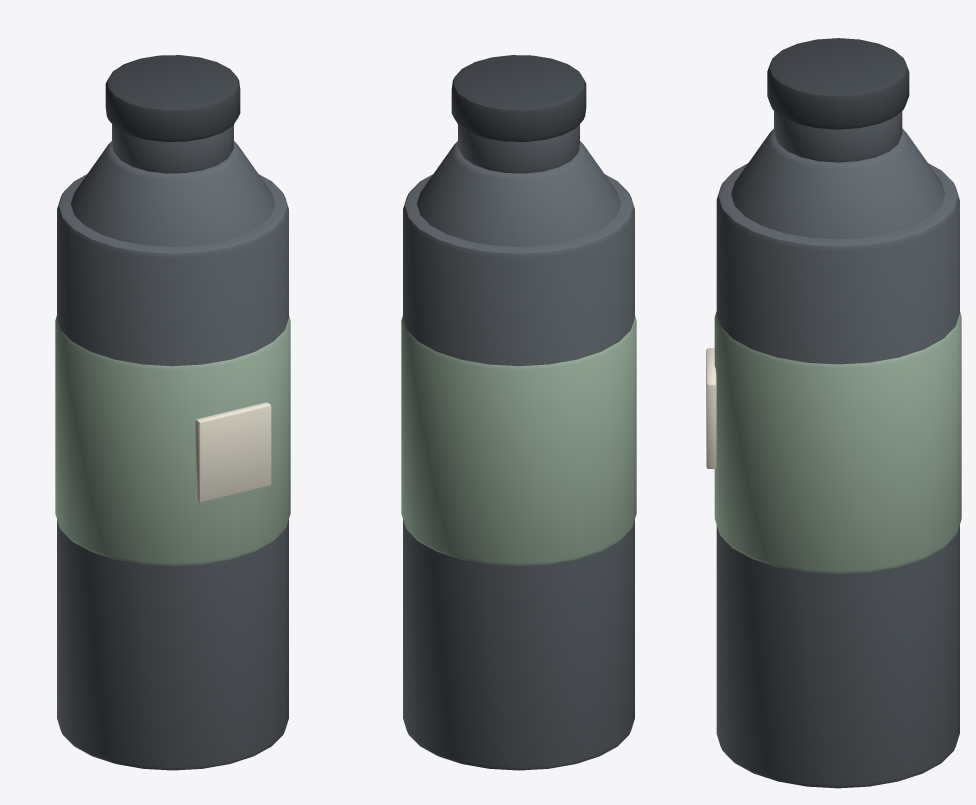
The model's file is checkout_product_bottle.glb.
3 views of the same model, side by side, from view 1: azimuth 30°, elevation 25°; view 2: azimuth 150°, elevation 25°; view 3: azimuth 270°, elevation 25° (orthographic). The views are drawn at different scales.
Parts seen in each view (by area): view 1: BottleBody, BottleLabelBand, BottleShoulder, BottleCap, BottleLabelCrest, BottleNeck; view 2: BottleBody, BottleLabelBand, BottleShoulder, BottleCap, BottleNeck; view 3: BottleBody, BottleLabelBand, BottleShoulder, BottleCap, BottleNeck, BottleLabelCrest.
Boxes of the visible parts, x1,y1,x2,y2 form: BottleBody: [57, 174, 288, 770]; BottleLabelBand: [55, 316, 290, 565]; BottleShoulder: [71, 141, 274, 246]; BottleCap: [105, 55, 240, 141]; BottleLabelCrest: [195, 402, 271, 502]; BottleNeck: [112, 124, 233, 173]; BottleBody: [403, 174, 634, 770]; BottleLabelBand: [401, 316, 636, 565]; BottleShoulder: [417, 141, 620, 246]; BottleCap: [451, 55, 586, 141]; BottleNeck: [458, 124, 579, 173]; BottleBody: [716, 163, 959, 788]; BottleLabelBand: [714, 311, 961, 573]; BottleShoulder: [731, 128, 945, 239]; BottleCap: [767, 38, 909, 129]; BottleNeck: [774, 111, 902, 162]; BottleLabelCrest: [706, 348, 716, 468].
Size of the model in its own units: 0.073 by 0.22 by 0.0755.
